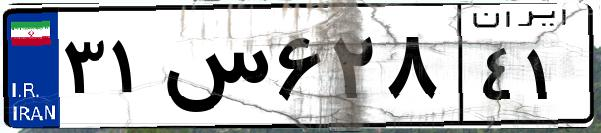1: (525, 38, 570, 115), (110, 28, 158, 98)
2: (330, 28, 385, 110)
3: (57, 26, 110, 100)
4: (475, 38, 525, 113)
6: (270, 28, 330, 110)
8: (385, 28, 445, 110)
س: (158, 20, 270, 120)
